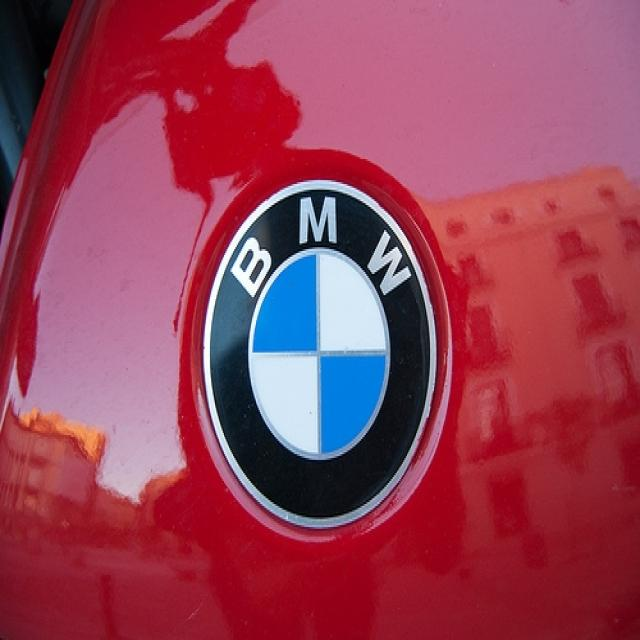bmw: (197, 166, 446, 539)
